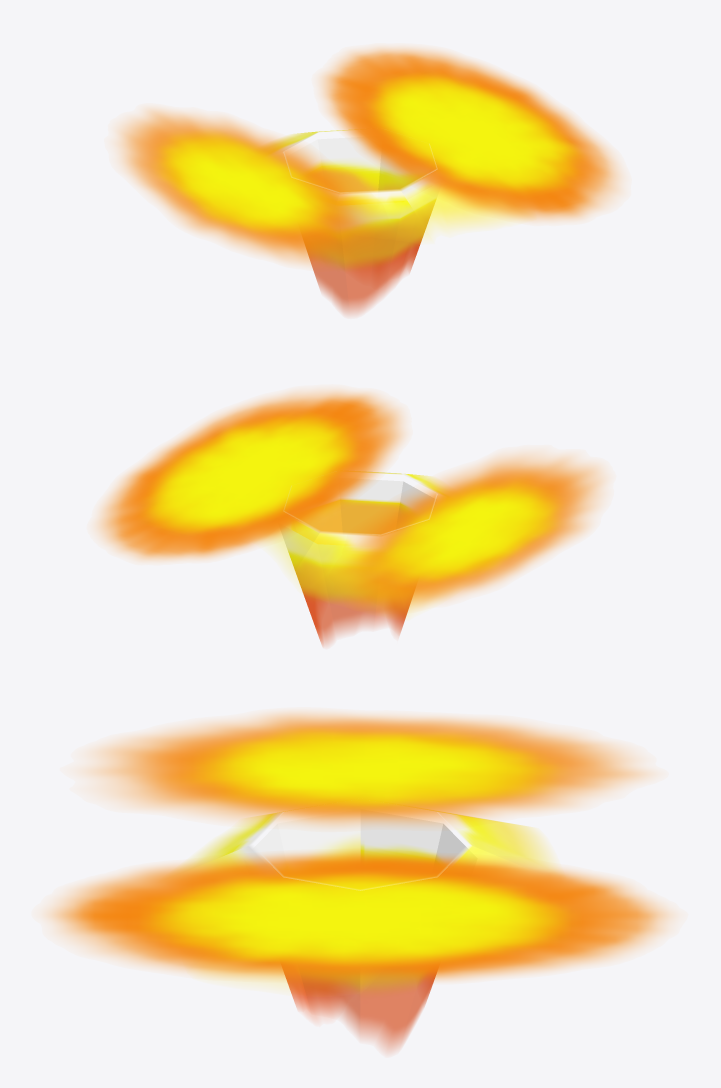
The model's file is default-booster.glb.
3 renders of one model, top to bottom at view 1: azimuth 30°, elevation 25°; view 2: azimuth 150°, elevation 25°; view 3: azimuth 270°, elevation 25°, orthographic. The views are drawn at different scales.
Visible parts, largest first — view 1: f01_Geom, f02_Geom, f03_Geom, Object01_Geom, Object03_Geom, Object02_Geom; view 2: f01_Geom, f02_Geom, Object02_Geom, Object03_Geom, Object01_Geom, f03_Geom; view 3: f01_Geom, f02_Geom, f03_Geom, Object01_Geom, Object02_Geom, Object03_Geom.
Part boxes in pixels (x1,y1,x2,y2): f01_Geom: [118, 48, 619, 264]; f02_Geom: [265, 130, 515, 237]; f03_Geom: [304, 205, 401, 314]; Object01_Geom: [317, 137, 428, 272]; Object03_Geom: [385, 191, 437, 293]; Object02_Geom: [285, 139, 324, 186]; f01_Geom: [97, 390, 603, 606]; f02_Geom: [268, 471, 446, 613]; Object02_Geom: [318, 544, 413, 635]; Object03_Geom: [296, 479, 403, 544]; Object01_Geom: [281, 526, 335, 646]; f03_Geom: [390, 481, 434, 634]; f01_Geom: [47, 713, 670, 980]; f02_Geom: [185, 808, 552, 986]; f03_Geom: [253, 810, 360, 1019]; Object01_Geom: [360, 860, 476, 1051]; Object02_Geom: [360, 810, 476, 997]; Object03_Geom: [284, 969, 360, 1036].
Bounding box in the file's own units: 0.7186 × 0.2412 × 0.7186.
3 materials, 3 textured.
